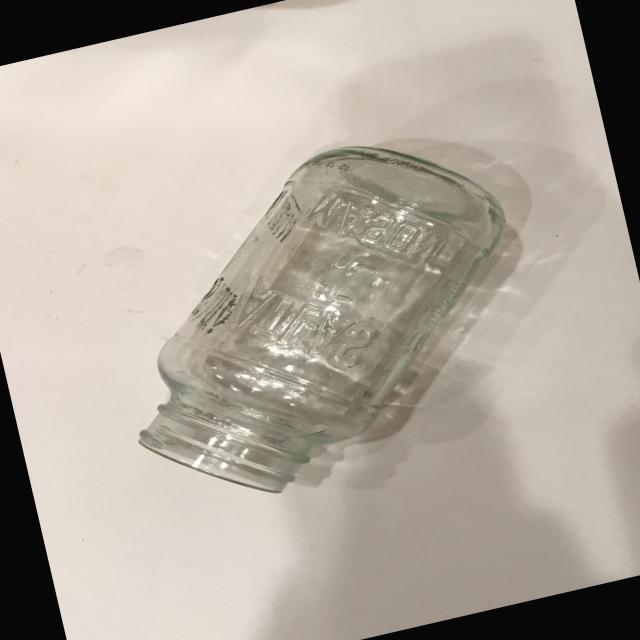Glass: (70, 104, 568, 528)
